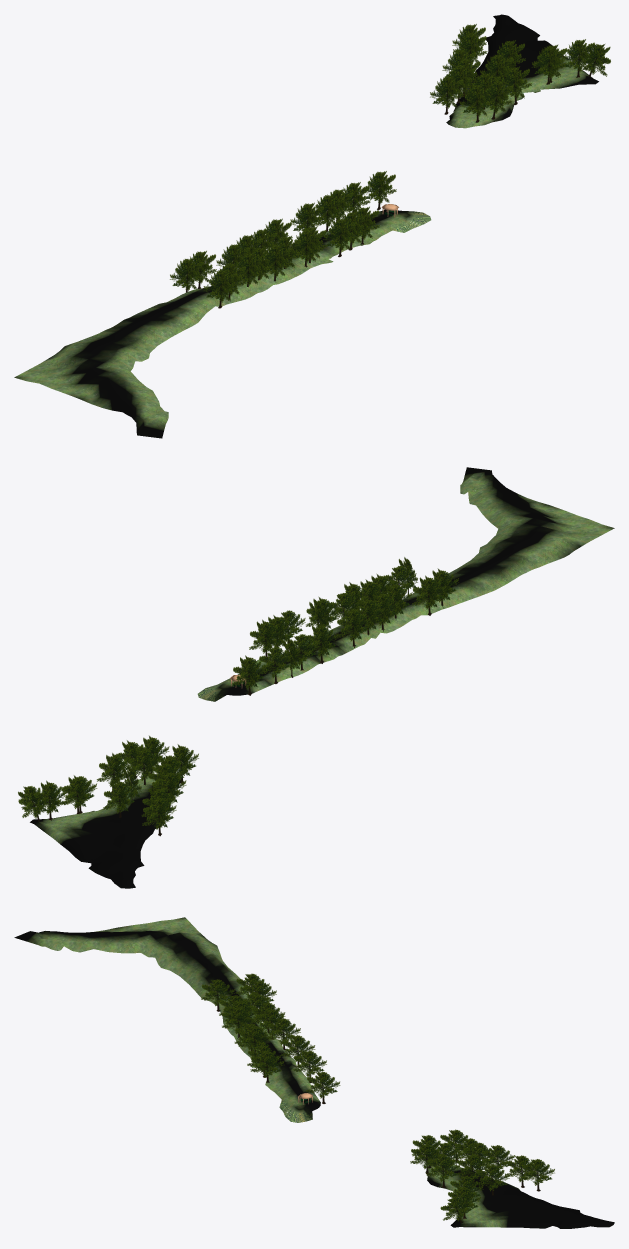
File: peninsula world.glb
3 views of the same model, one above another, from view 1: azimuth 30°, elevation 25°; view 2: azimuth 210°, elevation 25°; view 3: azimuth 270°, elevation 25° (orthographic). The views are drawn at different scales.
Parts seen in each view (by area): view 1: Peninsula, Tree01.023, Tree01.020, Tree01.007, Tree01.021, Tree01, Tree01.028, Tree01.025, Tree01.030, Tree01.014, Tree01.022, Tree01.004 (+5 smaller); view 2: Peninsula, Tree01.037, Tree01.018, Tree01, Tree01.031, Tree01.009, Tree01.036, Tree01.030, Tree01.005, Tree01.001, Tree01.004, Tree01.024 (+4 smaller); view 3: Peninsula, Tree01.024, Tree01.037, Tree01.005, Tree01, Tree01.036, Tree01.020, Tree01.002, Tree01.010, Tree01.009, Tree01.014, Tree01.029 (+5 smaller).
Part boxes in pixels (x1,y1,x2,y2): Peninsula: (14, 14, 598, 438); Tree01.023: (430, 75, 464, 114); Tree01.020: (203, 269, 237, 308); Tree01.007: (323, 218, 357, 257); Tree01.021: (170, 258, 203, 292); Tree01: (362, 171, 396, 209); Tree01.028: (531, 46, 565, 84); Tree01.025: (480, 80, 513, 119); Tree01.030: (561, 39, 594, 77); Tree01.014: (258, 244, 291, 281); Tree01.022: (459, 84, 494, 122); Tree01.004: (290, 202, 324, 231); Peninsula: (30, 467, 614, 888); Tree01.037: (142, 795, 176, 836); Tree01.018: (412, 575, 445, 615); Tree01: (232, 655, 266, 695); Tree01.031: (60, 775, 94, 814); Tree01.009: (336, 607, 370, 647); Tree01.036: (103, 779, 137, 817); Tree01.030: (33, 780, 67, 820); Tree01.005: (249, 619, 279, 657); Tree01.001: (258, 646, 292, 683); Tree01.004: (306, 623, 338, 663); Tree01.024: (96, 753, 131, 792); Peninsula: (14, 917, 614, 1228); Tree01.024: (426, 1154, 460, 1187); Tree01.037: (521, 1159, 554, 1191); Tree01.005: (250, 1051, 284, 1082); Tree01: (306, 1071, 340, 1103); Tree01.036: (476, 1164, 509, 1195); Tree01.020: (201, 979, 234, 1011); Tree01.002: (293, 1050, 326, 1082); Tree01.010: (238, 1026, 271, 1052); Tree01.009: (267, 1018, 300, 1050); Tree01.014: (222, 1007, 255, 1038); Tree01.029: (440, 1196, 472, 1223).
Size of the model in its own units: 320 by 19.47 by 255.
Materials: 4 (2 with a texture image).
